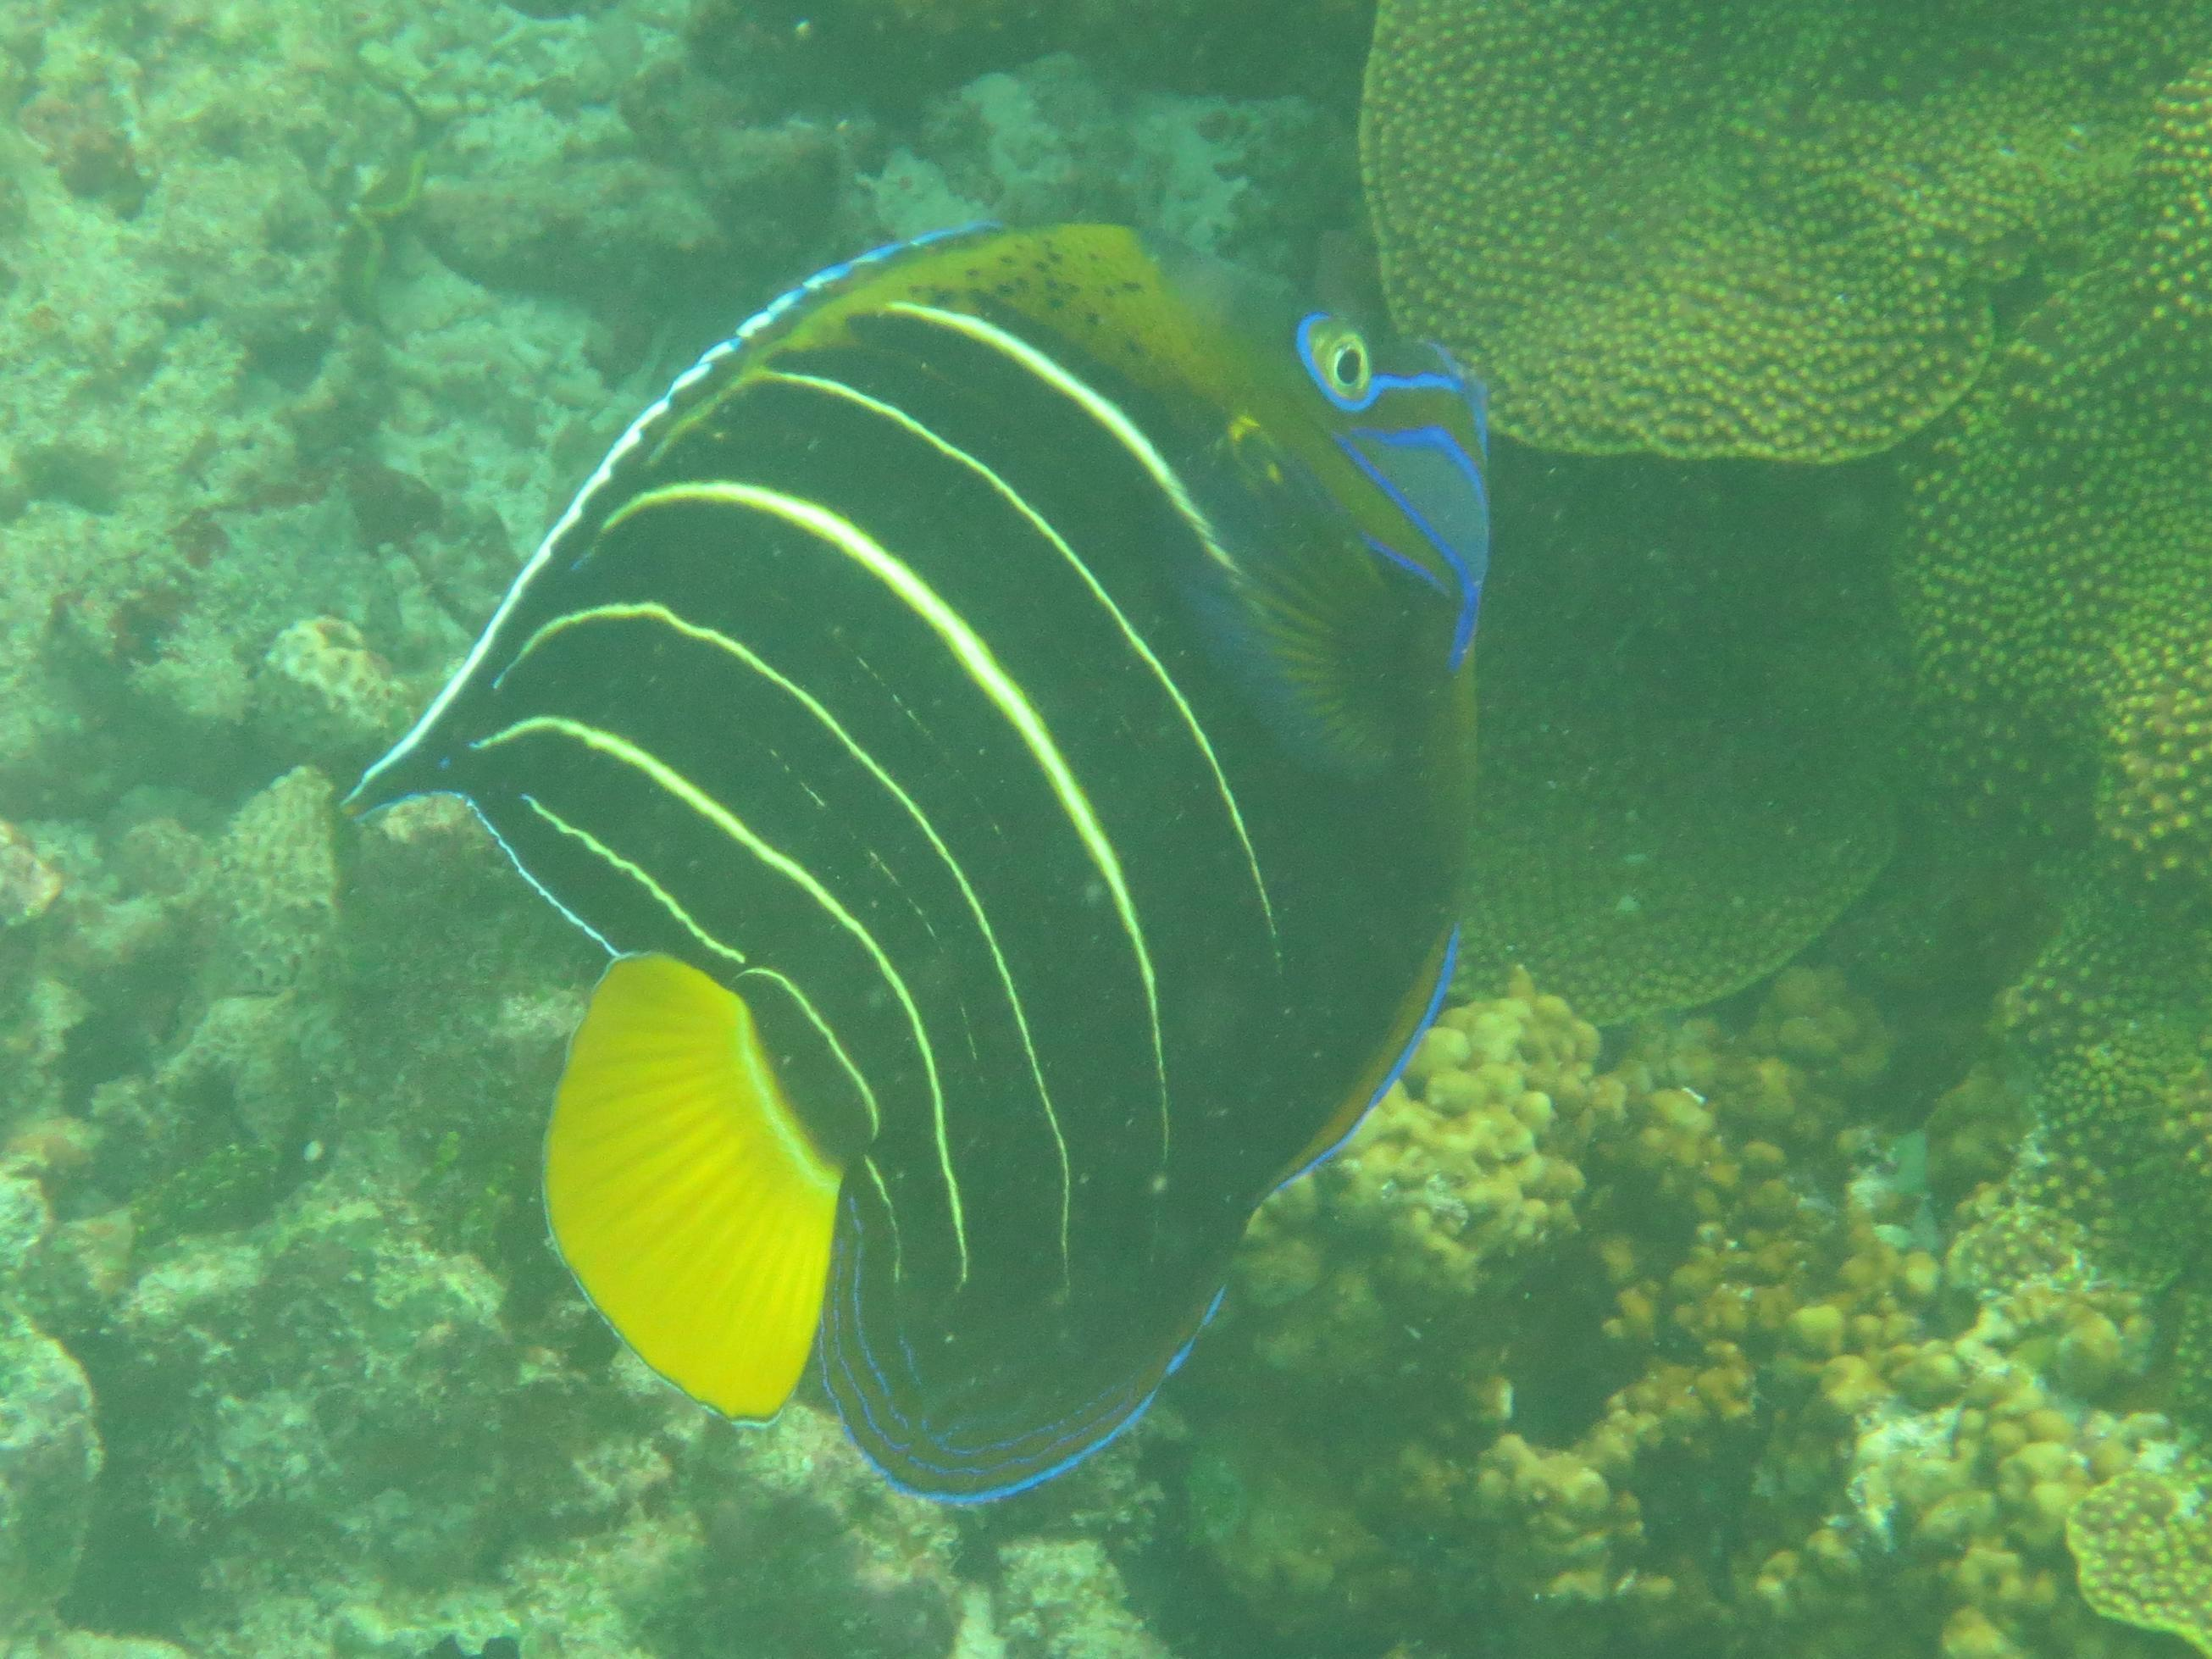Fish: (312, 96, 1590, 1601)
